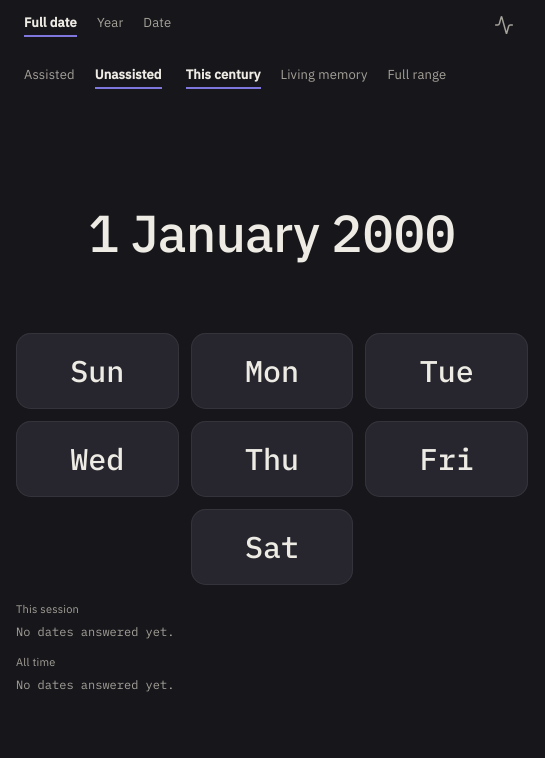
Test: Lifetime totals under the pad › counts an answer into both the session and the lifetime totals
What coordinates should you click on to do the following:
click the button "Sat"
I would click on:
 (272, 547)
Its box is x1=191 y1=509 x2=353 y2=585.
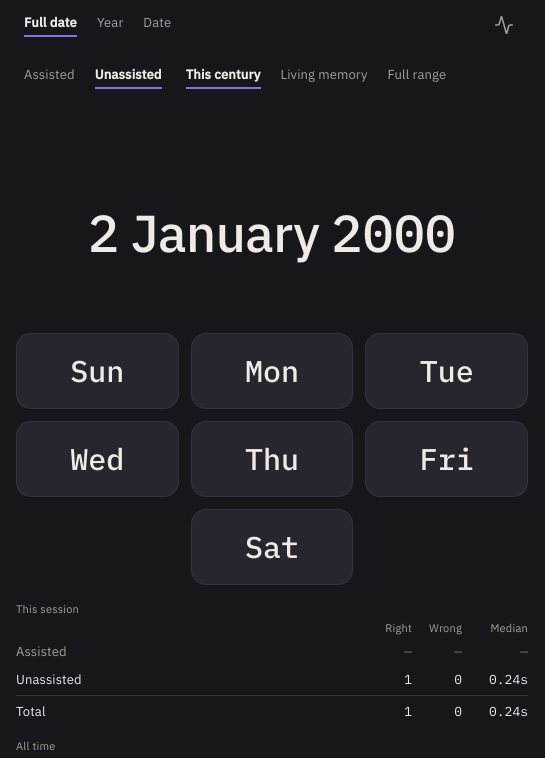
Now the text "No dates answered yet." is gone
